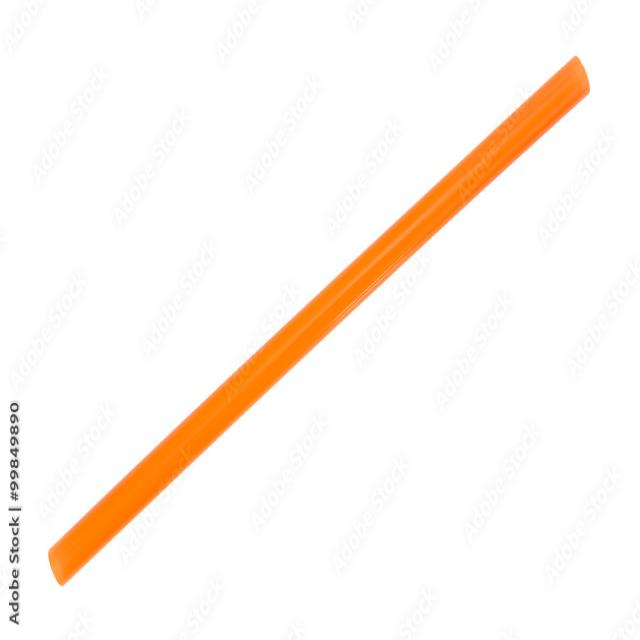plastic: (40, 28, 613, 606)
